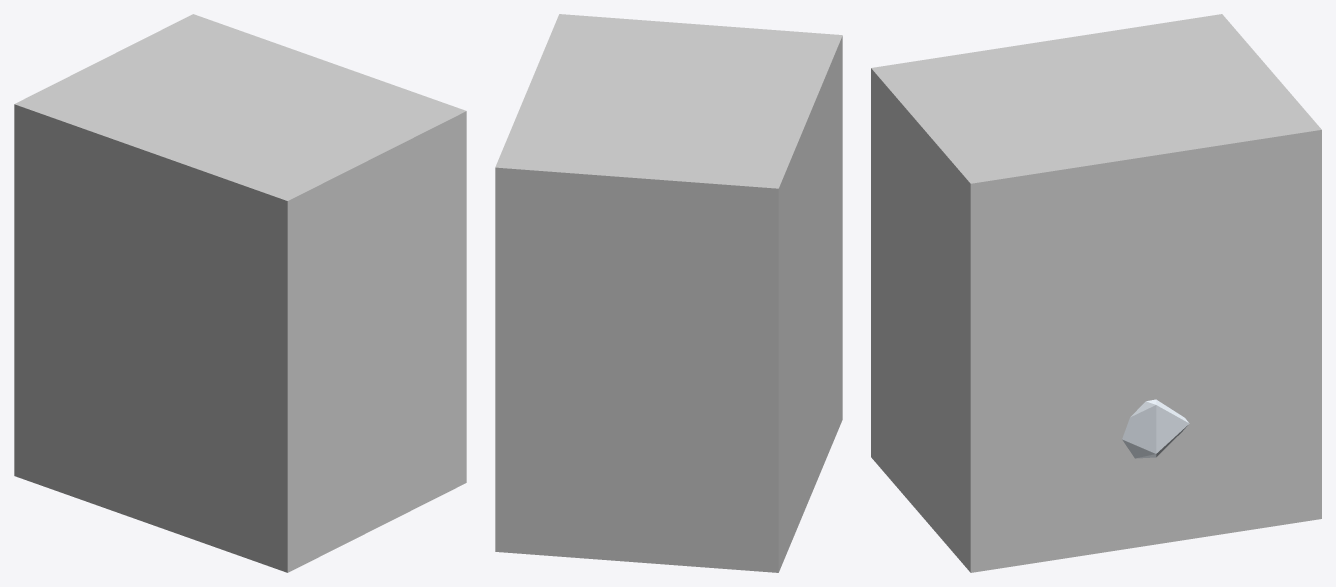
File: tundra_pet5.fbx
3 views of the same model, side by side, from view 1: azimuth 30°, elevation 25°; view 2: azimuth 150°, elevation 25°; view 3: azimuth 270°, elevation 25° (orthographic). The views are drawn at different scales.
Parts seen in each view (by area): view 1: Root__0.00_0.47_0.01__0.65_0.95_0.83; view 2: Root__0.00_0.47_0.01__0.65_0.95_0.83; view 3: Root__0.00_0.47_0.01__0.65_0.95_0.83, WingL__Body__-0.23_0.33_0.03.
Part boxes in pixels (x1,y1,x2,y2): Root__0.00_0.47_0.01__0.65_0.95_0.83: (14,14,466,572); Root__0.00_0.47_0.01__0.65_0.95_0.83: (495,14,842,572); Root__0.00_0.47_0.01__0.65_0.95_0.83: (871,14,1321,572); WingL__Body__-0.23_0.33_0.03: (1122,399,1189,458).
Size of the model in its own units: 24.89 by 26.6 by 27.93.
2 materials, 1 textured.
